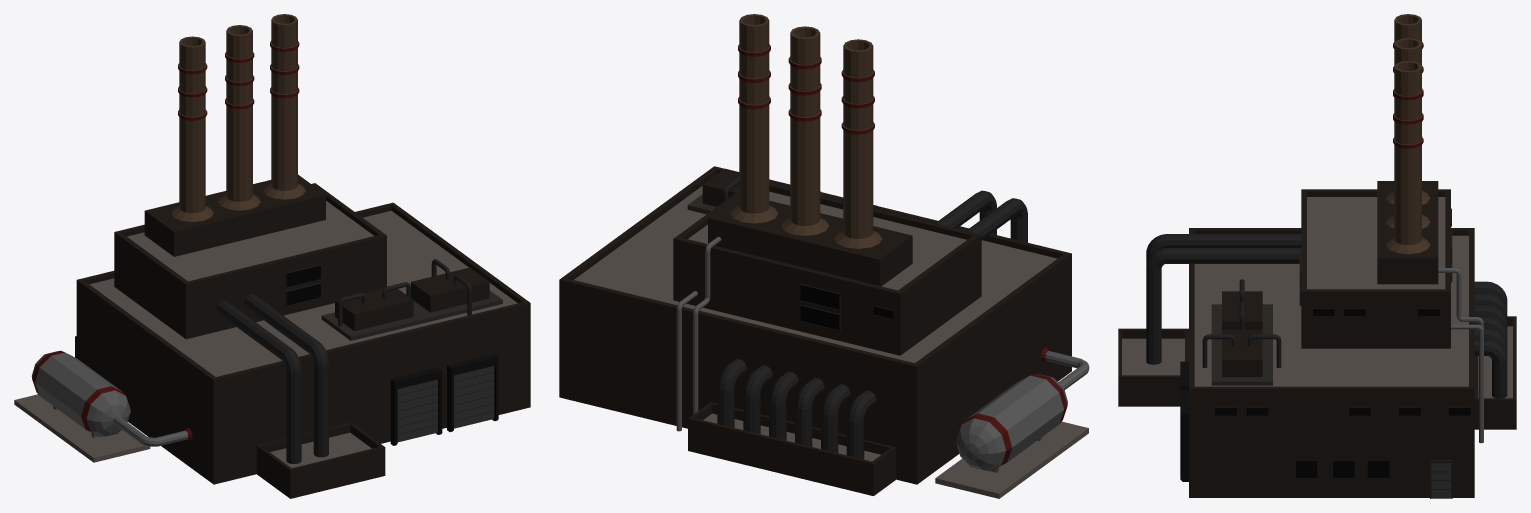
The model's file is SM_powerstation.FBX.
3 views of the same model, side by side, from view 1: azimuth 30°, elevation 25°; view 2: azimuth 150°, elevation 25°; view 3: azimuth 270°, elevation 25° (orthographic). The views are drawn at different scales.
Parts seen in each view (by area): view 1: Powerstation; view 2: Powerstation; view 3: Powerstation.
Boxes of the visible parts, x1=… form: Powerstation: x1=14, y1=14, x2=530, y2=498; Powerstation: x1=559, y1=14, x2=1089, y2=498; Powerstation: x1=1118, y1=14, x2=1516, y2=498.
Bounding box in the file's own units: 2443 × 2097 × 2089.
